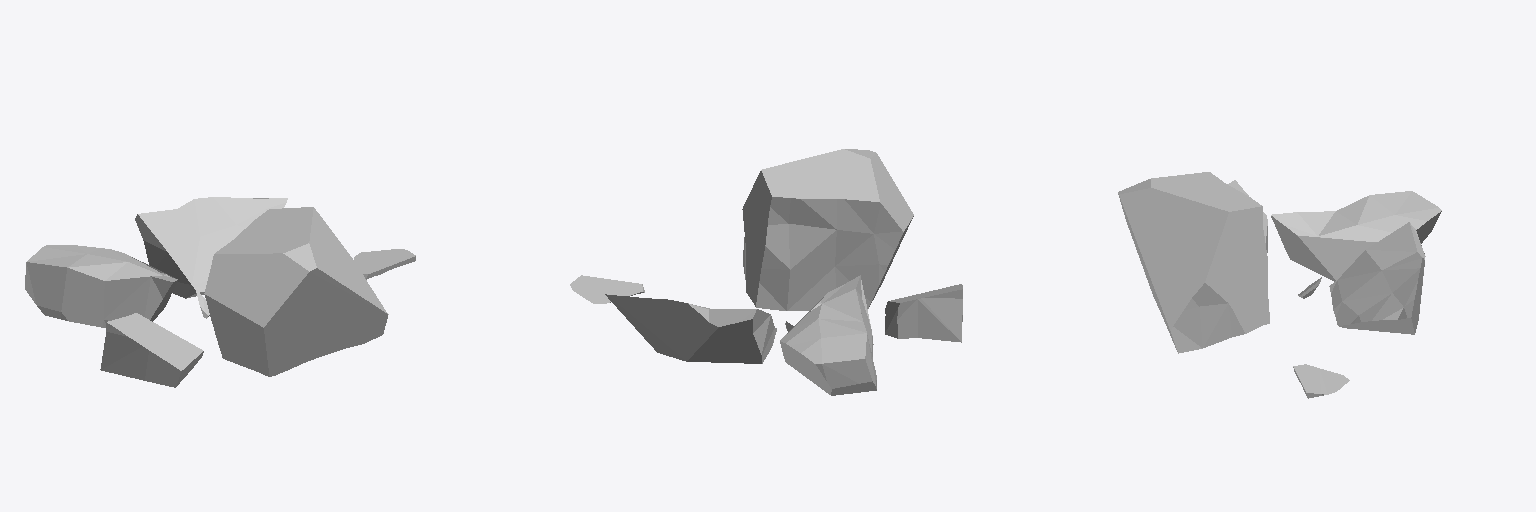
The model's file is rock_group_0.obj.
The picture shows the model from 3 angles: view 1: azimuth 30°, elevation 25°; view 2: azimuth 150°, elevation 25°; view 3: azimuth 270°, elevation 25°; orthographic projection.
Parts seen in each view (by area): view 1: Cube_cell.007_Mesh.338; view 2: Cube_cell.007_Mesh.338; view 3: Cube_cell.007_Mesh.338.
Boxes of the visible parts, x1=… form: Cube_cell.007_Mesh.338: x1=25, y1=197, x2=415, y2=387; Cube_cell.007_Mesh.338: x1=570, y1=149, x2=962, y2=395; Cube_cell.007_Mesh.338: x1=1118, y1=172, x2=1441, y2=398.
Bounding box in the file's own units: 4.54 × 1.56 × 3.66.